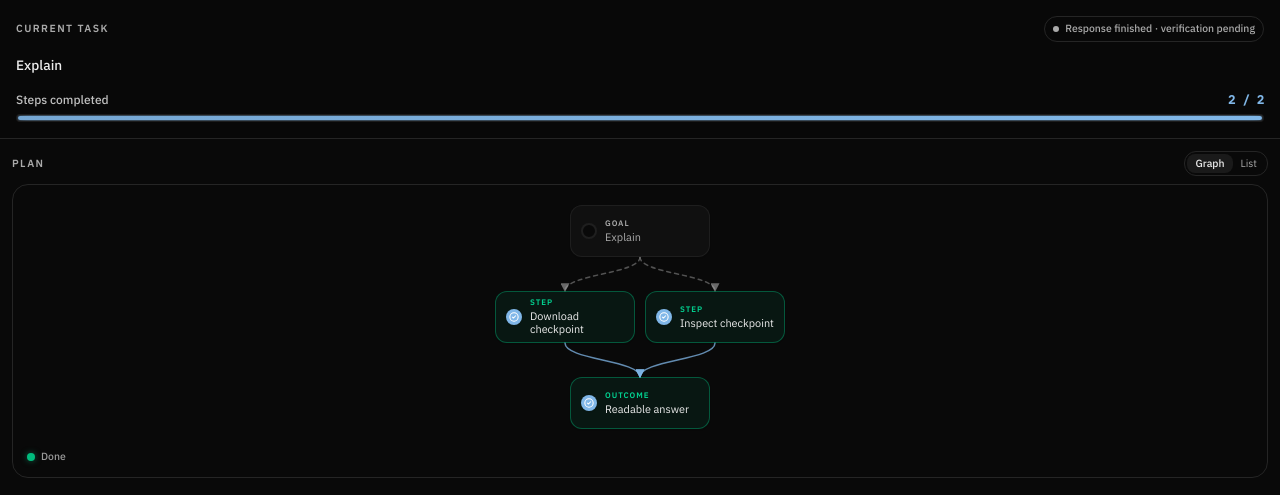
Test case: live plan › does not waive a pending objective hidden by display deduplication
What coordinates should you click on to do the following:
click the button "list"
I would click on:
 (1249, 164)
Its box is x1=1232 y1=154 x2=1265 y2=173.
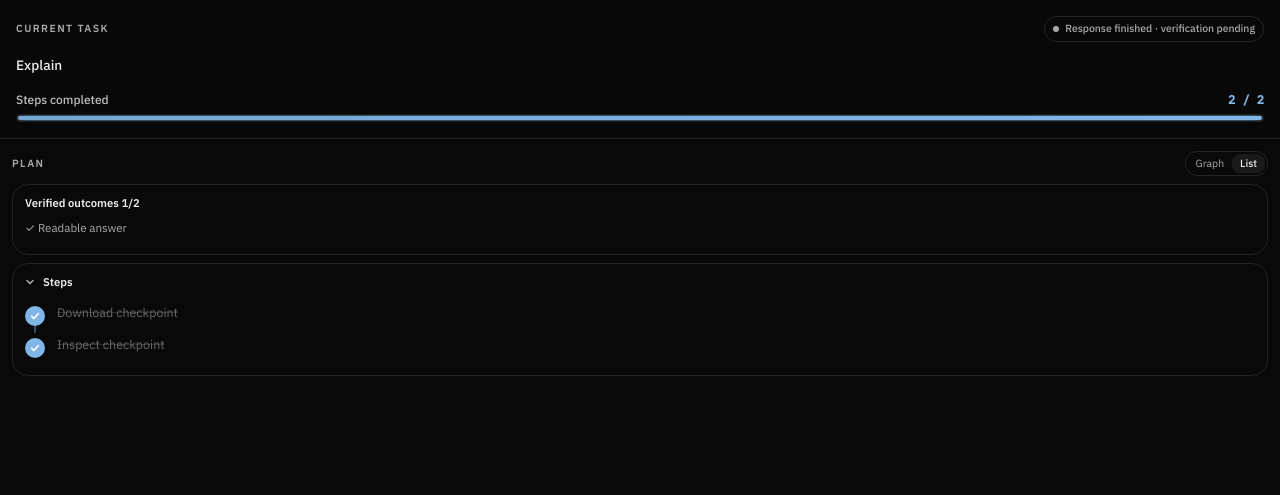
Check: the message reads "Response finished · verification pending", box x1=1065 y1=21 x2=1255 y2=35
Check: the text "Verified outcomes 1/2" is shown, box x1=25 y1=196 x2=140 y2=210
